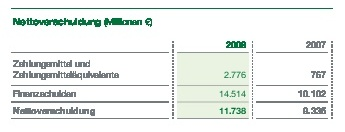table: (0, 0, 345, 132)
